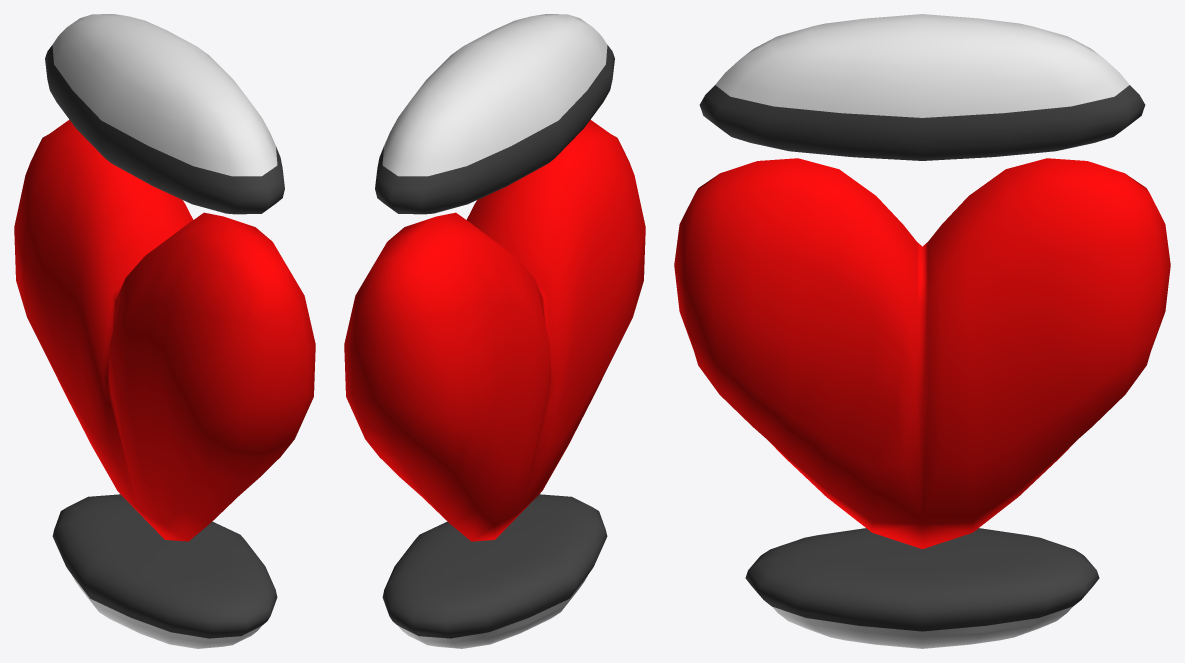
The model's file is floating heart.fbx.
The picture shows the model from 3 angles, left to right: view 1: azimuth 30°, elevation 25°; view 2: azimuth 150°, elevation 25°; view 3: azimuth 270°, elevation 25°; orthographic projection. The views are drawn at different scales.
Parts seen in each view (by area): view 1: Cube; view 2: Cube; view 3: Cube.
Boxes of the visible parts, left/top/right/bottom form: Cube: left=14, top=14, right=315, bottom=648; Cube: left=344, top=14, right=645, bottom=648; Cube: left=674, top=14, right=1170, bottom=648.
Size of the model in its own units: 196 by 663 by 485.
